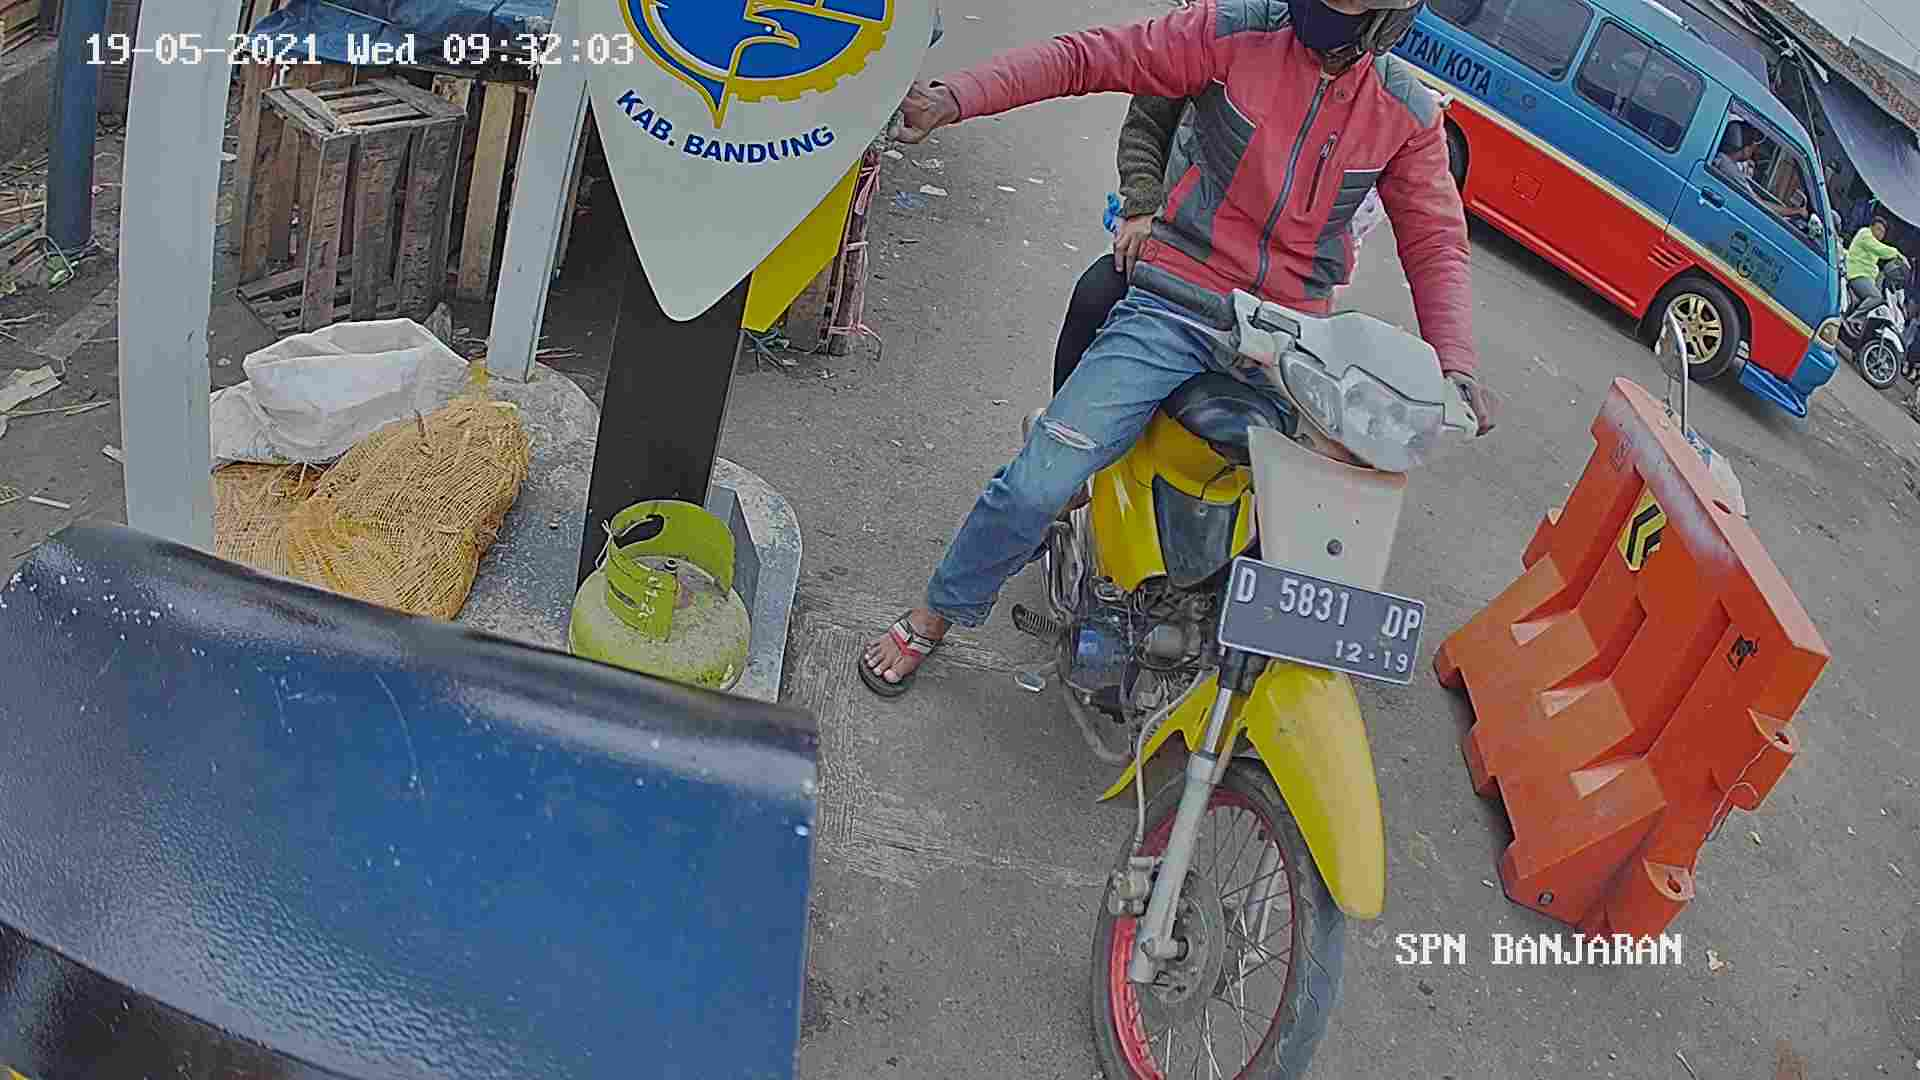motor: (1019, 281, 1489, 1080)
